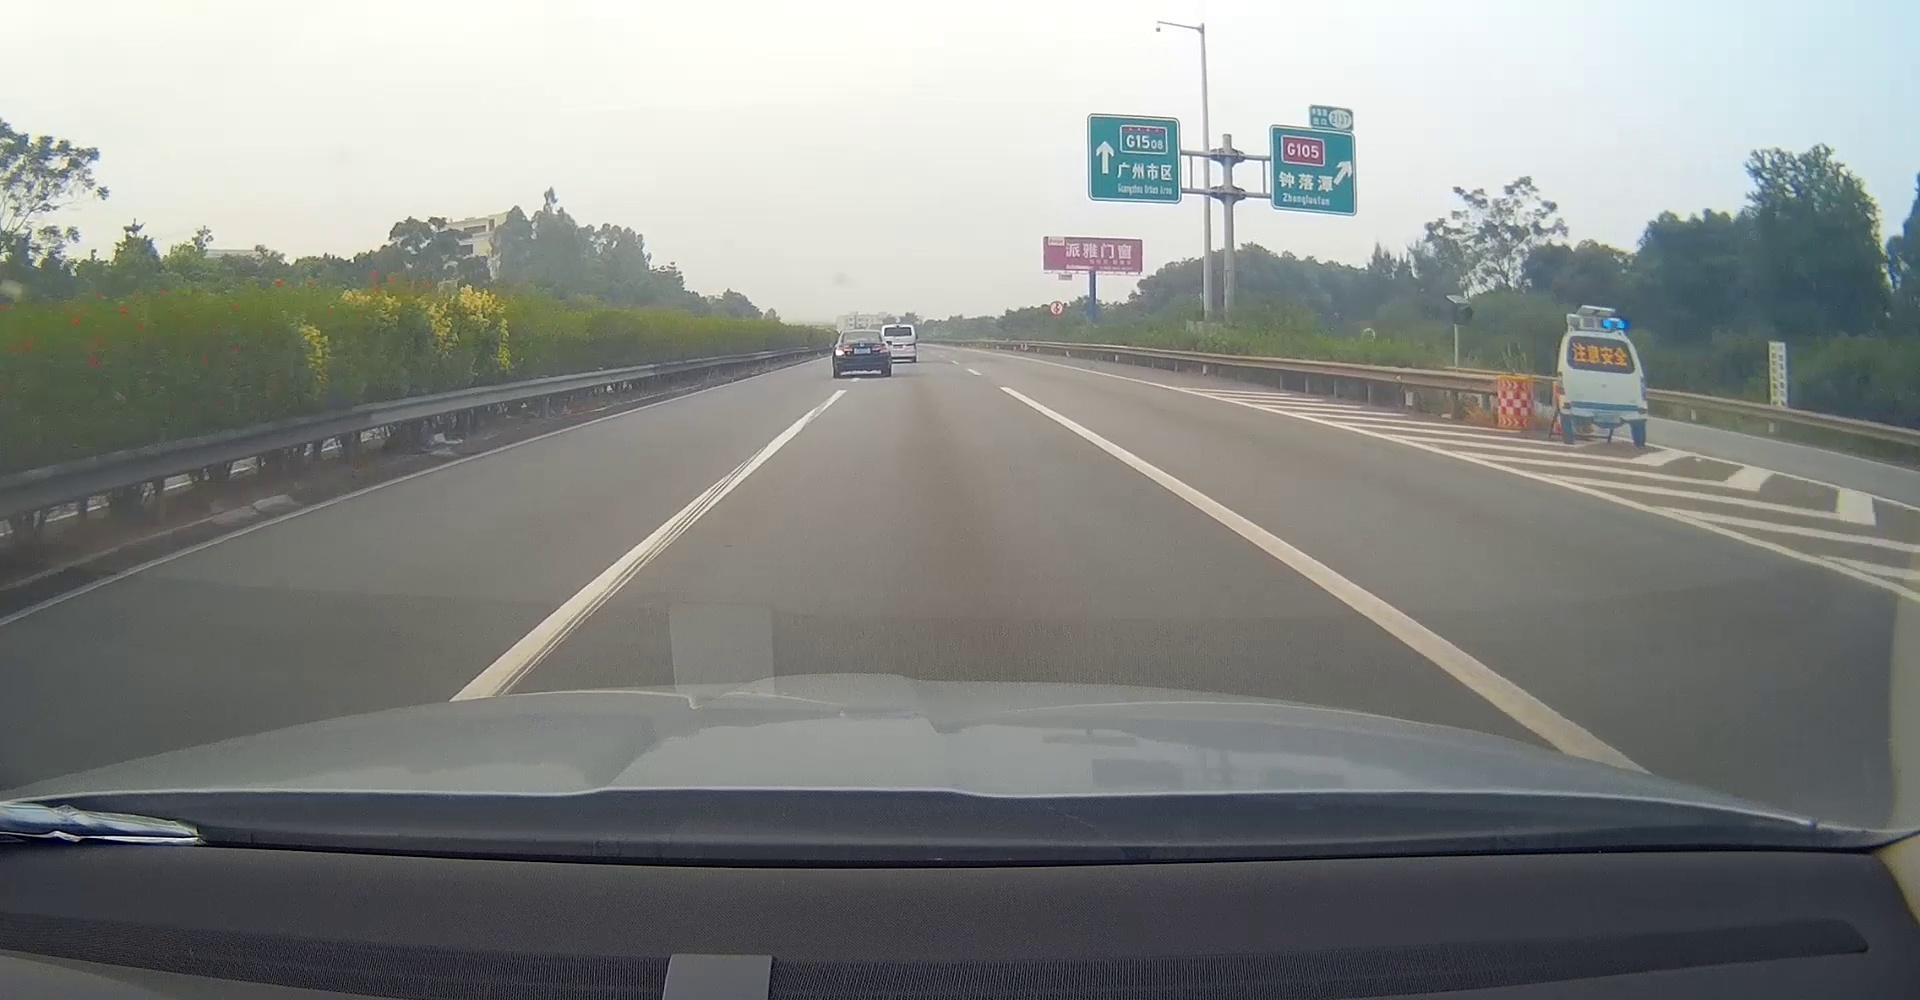L_light: (834, 346, 855, 357)
R_light: (872, 343, 890, 354)
T_light: (856, 331, 867, 332)
day-left: (832, 330, 893, 378)
